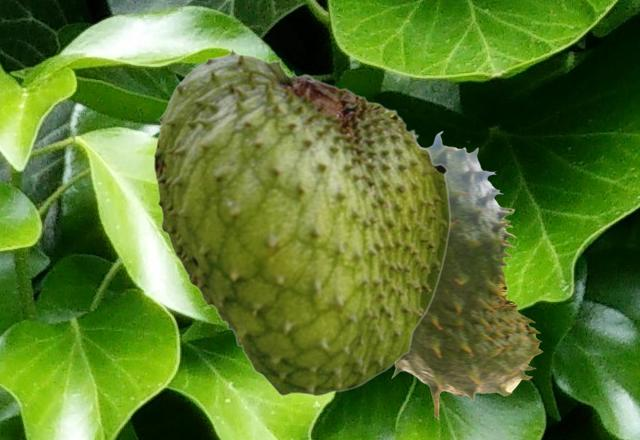guyabano: (153, 46, 450, 396), (390, 131, 542, 419)
